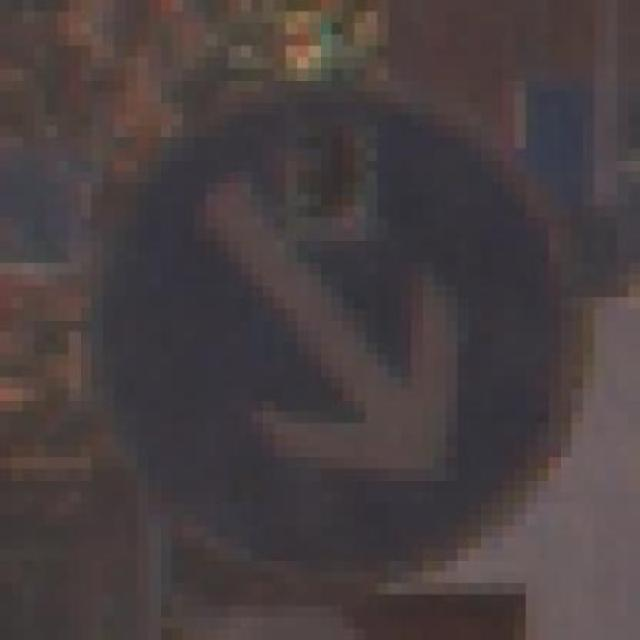Keep-Right: (80, 80, 606, 583)
